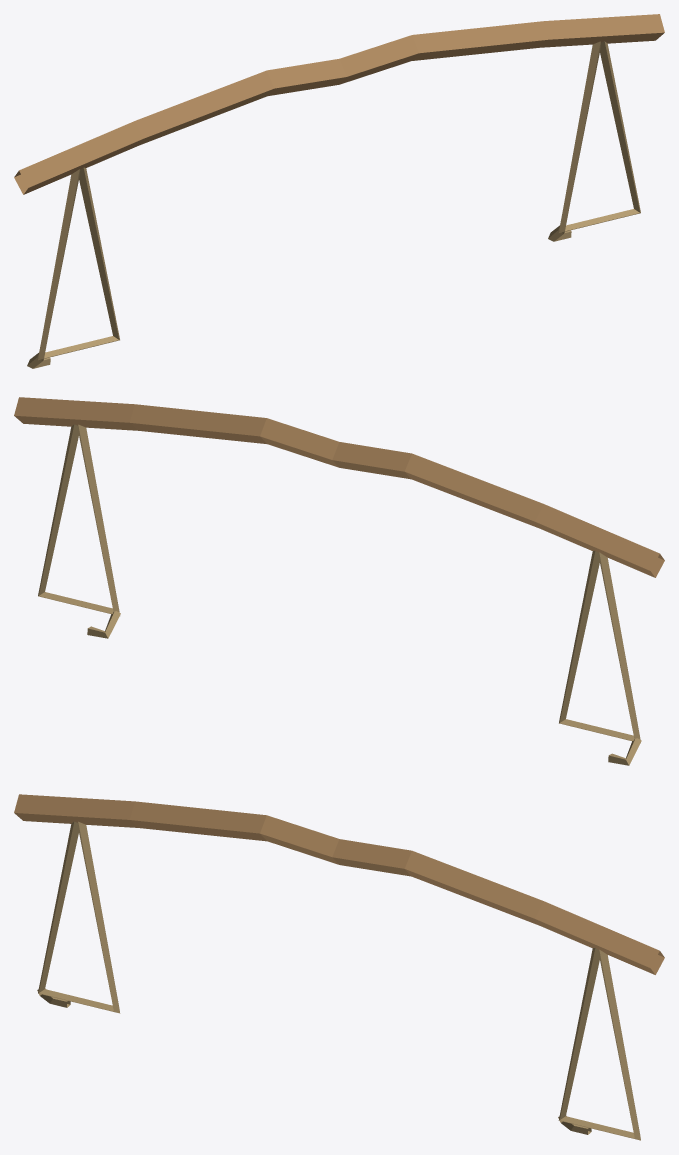
3 renders of one model, top to bottom at view 1: azimuth 30°, elevation 25°; view 2: azimuth 150°, elevation 25°; view 3: azimuth 330°, elevation 25°, orthographic.
Visible parts, largest first — view 1: BA-0065 batched; view 2: BA-0065 batched; view 3: BA-0065 batched.
Part boxes in pixels (<box>): BA-0065 batched: <box>14,14,664,368</box>; BA-0065 batched: <box>14,397,664,765</box>; BA-0065 batched: <box>14,794,664,1140</box>.
Bounding box in the file's own units: 2.21 × 0.8245 × 0.1145.
